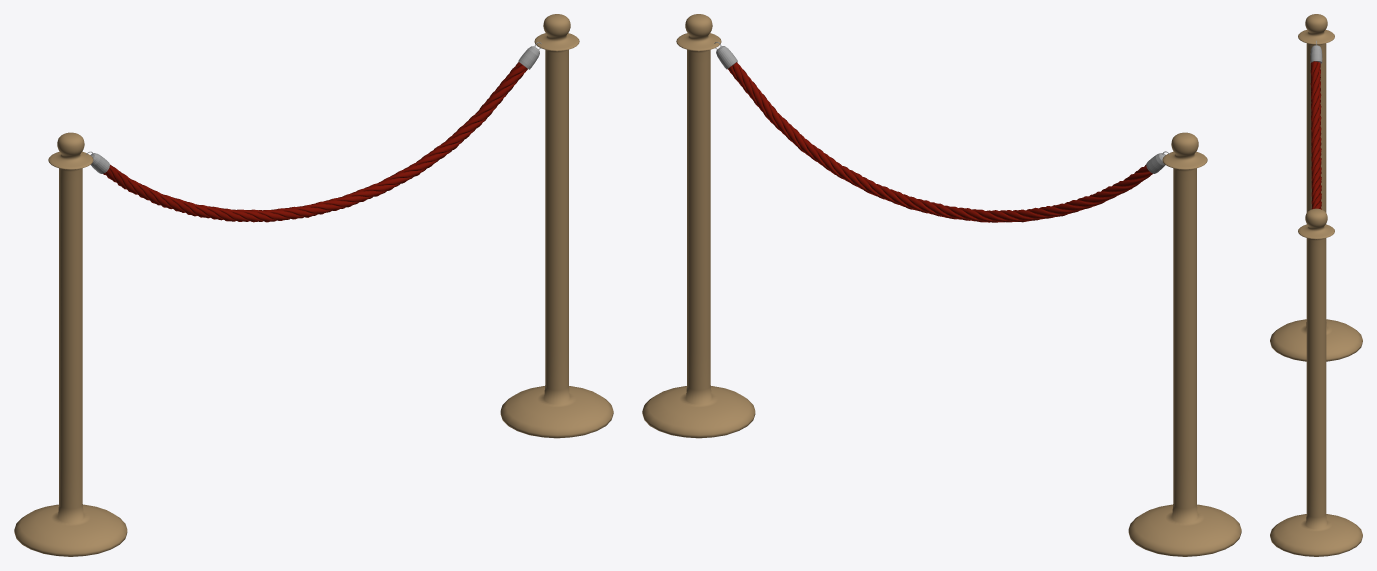
The model's file is Cinema ropes.fbx.
3 views of the same model, side by side, from view 1: azimuth 30°, elevation 25°; view 2: azimuth 150°, elevation 25°; view 3: azimuth 270°, elevation 25° (orthographic). The views are drawn at different scales.
Visible parts, largest first — view 1: Cylinder, Circle; view 2: Cylinder, Circle; view 3: Cylinder, Circle, Cylinder.001.
Boxes of the visible parts, x1,y1,x2,y2 form: Cylinder: (14,14,613,556); Circle: (103,62,527,222); Cylinder: (642,14,1241,556); Circle: (728,62,1152,222); Cylinder: (1270,14,1362,556); Circle: (1310,61,1321,209); Cylinder.001: (1310,45,1322,63).
Size of the model in its own units: 184 by 120 by 30.81.
